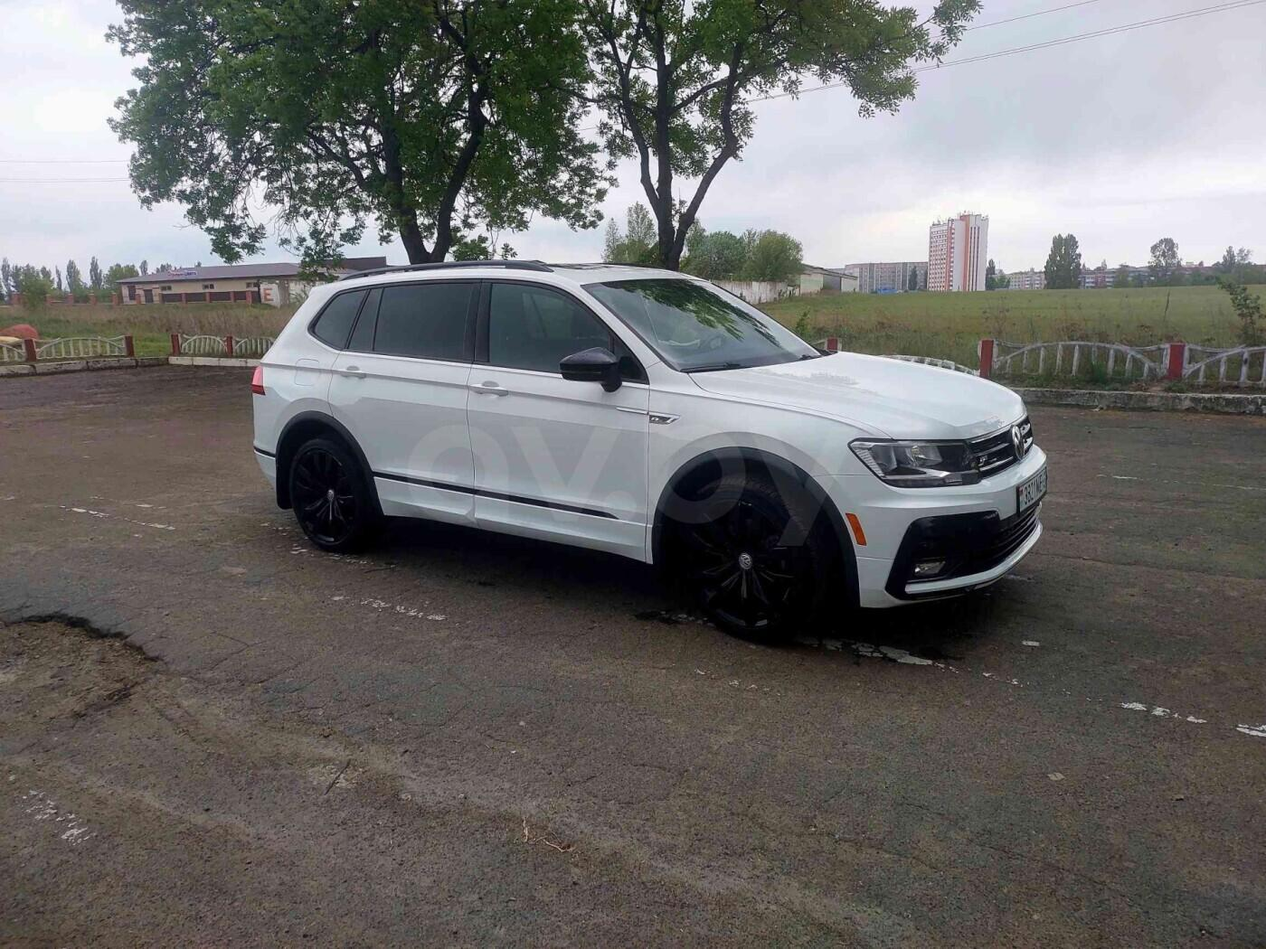Tiguan_2016-2021: (242, 257, 1055, 647)
